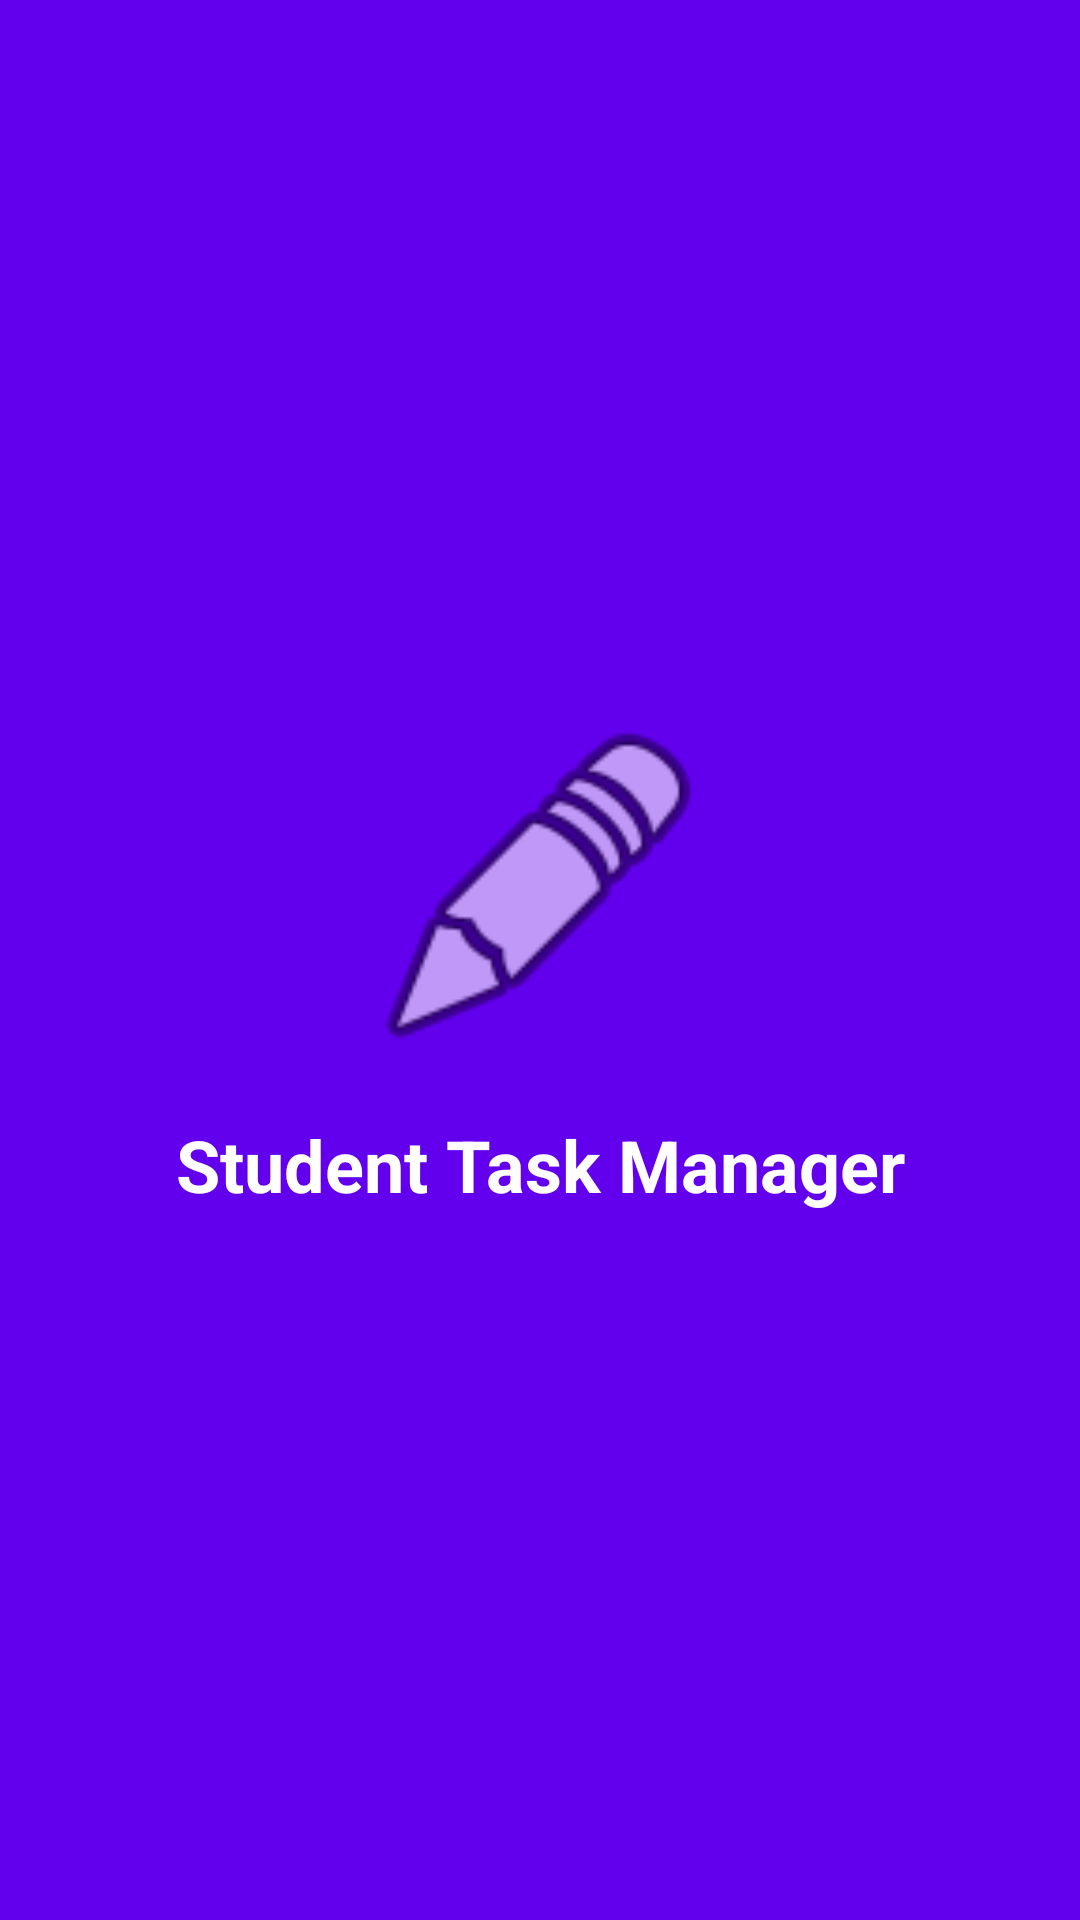

Where icons sit on this 1080×1920 app screen, as (x1, y1, x2, y2):
edit: (386, 733, 691, 1038)
